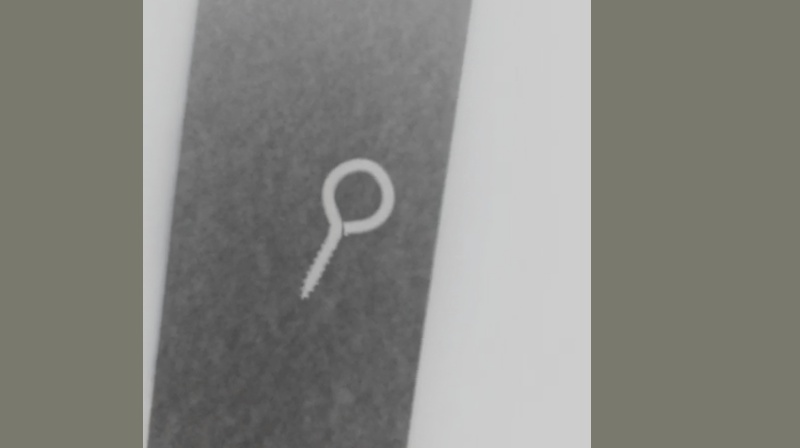O001: (297, 151, 401, 301)
